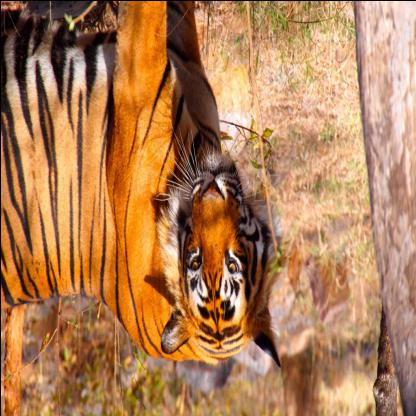tiger: (145, 120, 287, 372)
